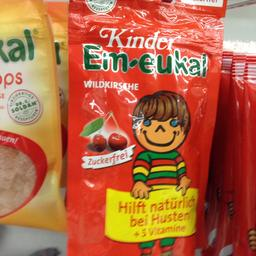candy: (66, 1, 222, 250)
